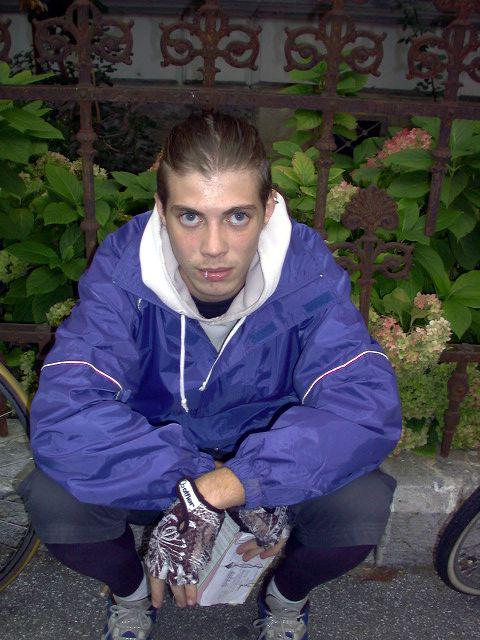Person: (26, 108, 408, 640)
